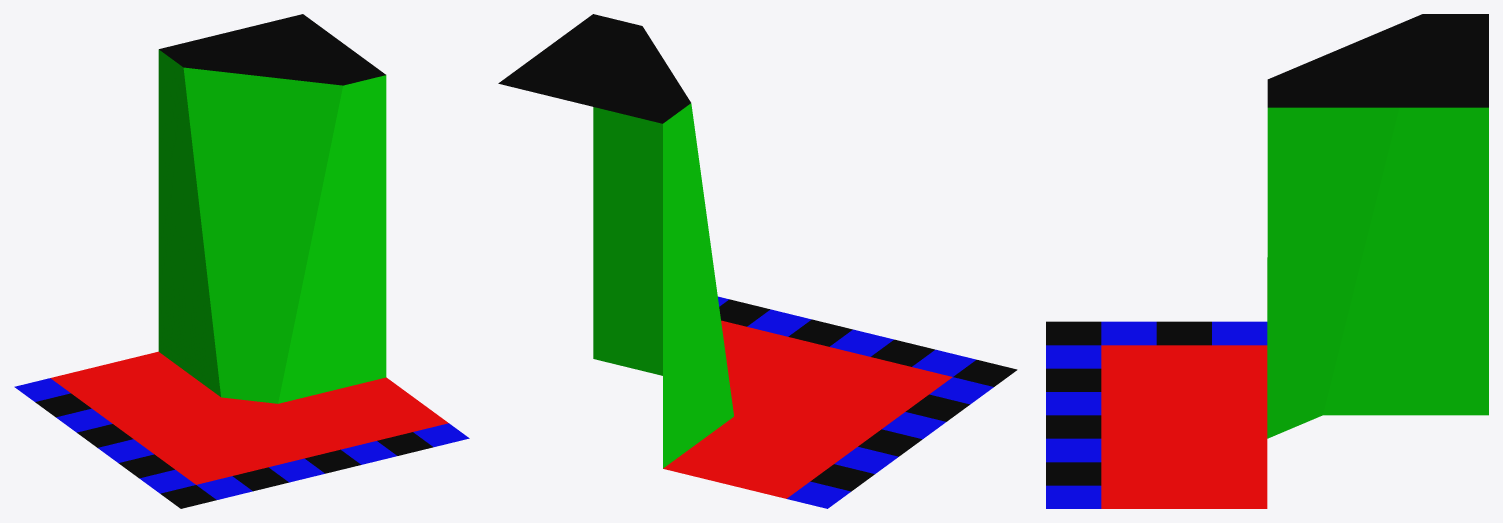
The model's file is Floor_Corner_Invert_1x1.fbx.
3 views of the same model, side by side, from view 1: azimuth 30°, elevation 25°; view 2: azimuth 150°, elevation 25°; view 3: azimuth 270°, elevation 25° (orthographic). The views are drawn at different scales.
Visible parts, largest first — view 1: Plane.007; view 2: Plane.007; view 3: Plane.007.
Part boxes in pixels (box(x1,y1,x2,y2)): Plane.007: box(14, 14, 469, 508); Plane.007: box(498, 14, 1017, 508); Plane.007: box(1046, 14, 1488, 508).
Bounding box in the file's own units: 1 × 1 × 1.
